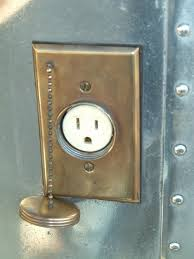outlet: (73, 113, 101, 146)
